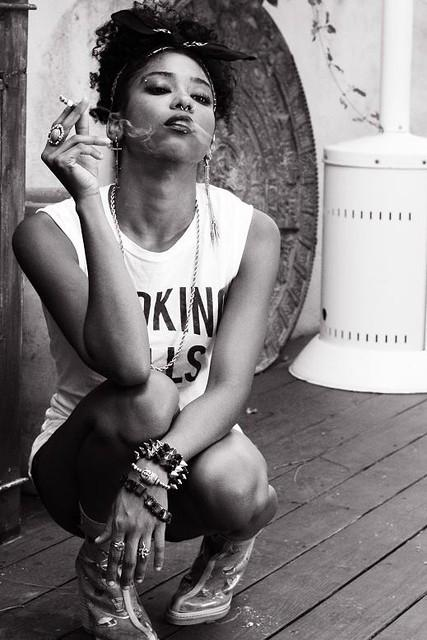cigarette: (58, 95, 82, 109)
